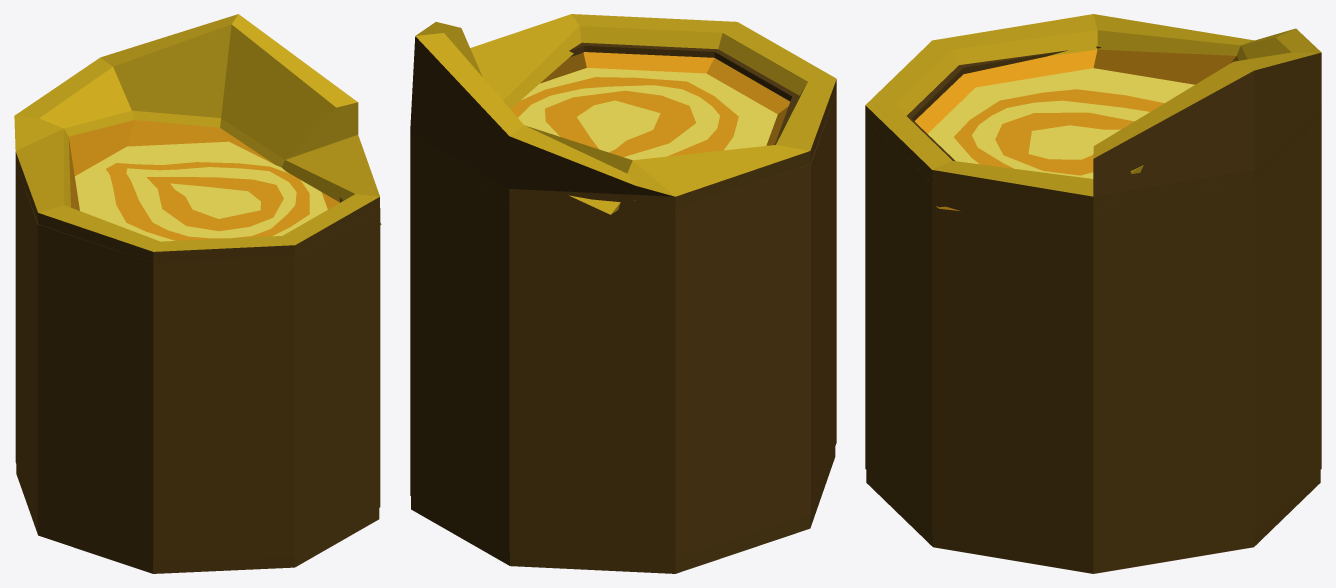
Rendered from StumpSource.fbx.
The picture shows the model from 3 angles, left to right: view 1: azimuth 30°, elevation 25°; view 2: azimuth 150°, elevation 25°; view 3: azimuth 270°, elevation 25°; orthographic projection. The views are drawn at different scales.
Parts seen in each view (by area): view 1: Cylinder; view 2: Cylinder; view 3: Cylinder.
Boxes of the visible parts, x1,y1,x2,y2 form: Cylinder: [14, 14, 381, 573]; Cylinder: [410, 14, 836, 573]; Cylinder: [865, 14, 1321, 573].
Bounding box in the file's own units: 1.04 × 1.25 × 1.09.
